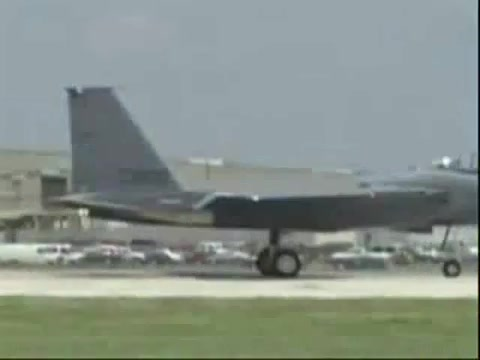aeroplane: (52, 85, 479, 280)
